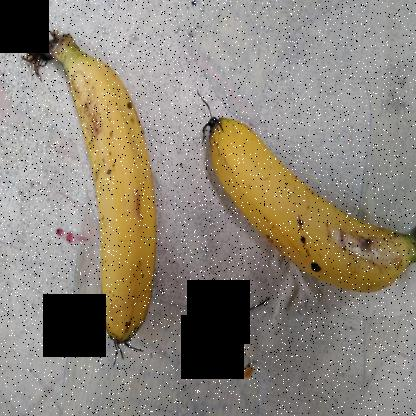freshripe: (203, 107, 411, 300), (54, 46, 164, 357)
